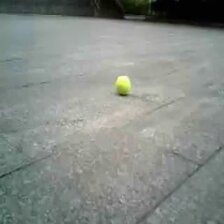tennis: (115, 75, 130, 93)
